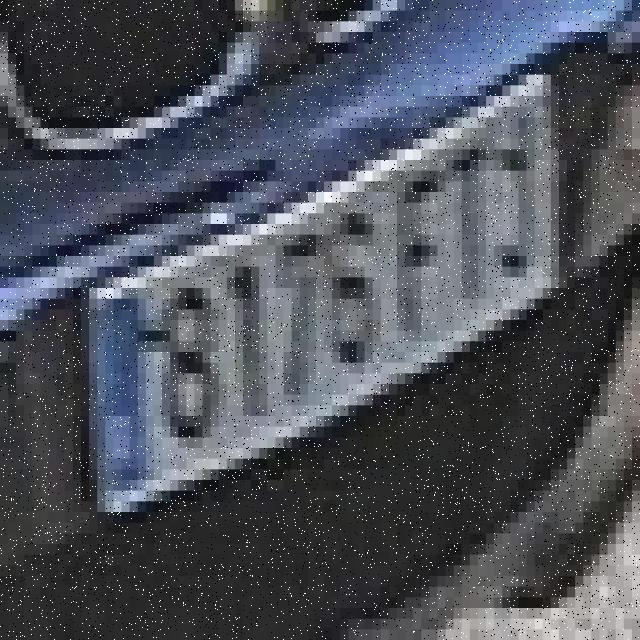licenseplate: (52, 51, 580, 566)
